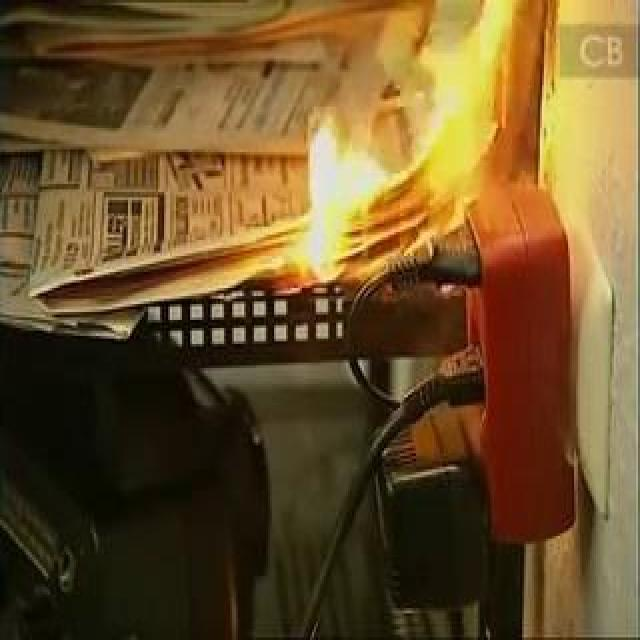fire: (306, 27, 494, 254)
